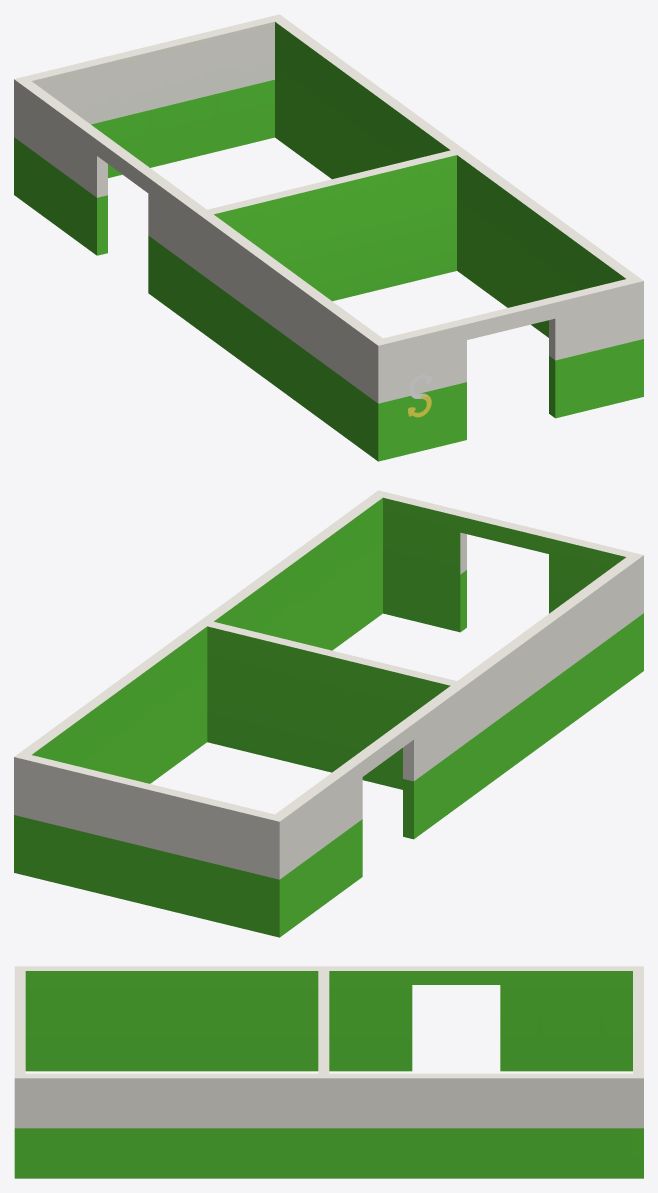
The model's file is room1.fbx.
3 renders of one model, top to bottom at view 1: azimuth 30°, elevation 25°; view 2: azimuth 150°, elevation 25°; view 3: azimuth 270°, elevation 25°, orthographic. The views are drawn at different scales.
Visible parts, largest first — view 1: Wall.001; view 2: Wall.001; view 3: Wall.001.
Boxes of the visible parts, x1=… form: Wall.001: x1=14, y1=14, x2=643, y2=461; Wall.001: x1=14, y1=490, x2=643, y2=937; Wall.001: x1=14, y1=966, x2=643, y2=1178.
Bounding box in the file's own units: 600 × 250 × 1427.
Materials: 2 (2 with a texture image).
